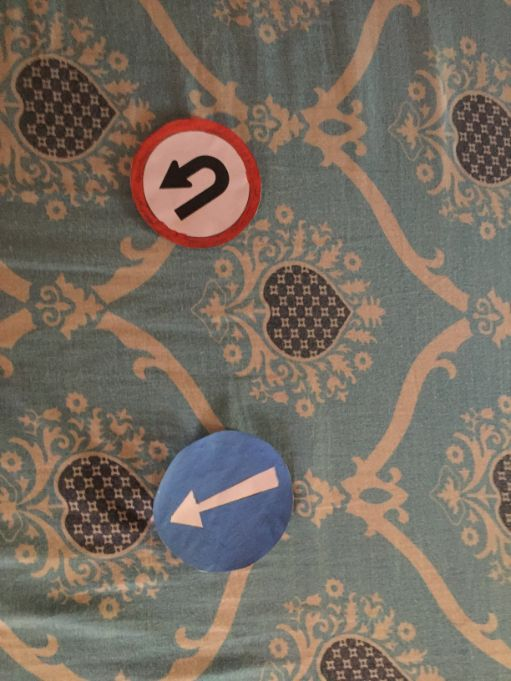keep-left: (156, 435, 291, 570)
u-turn: (130, 121, 261, 252)
